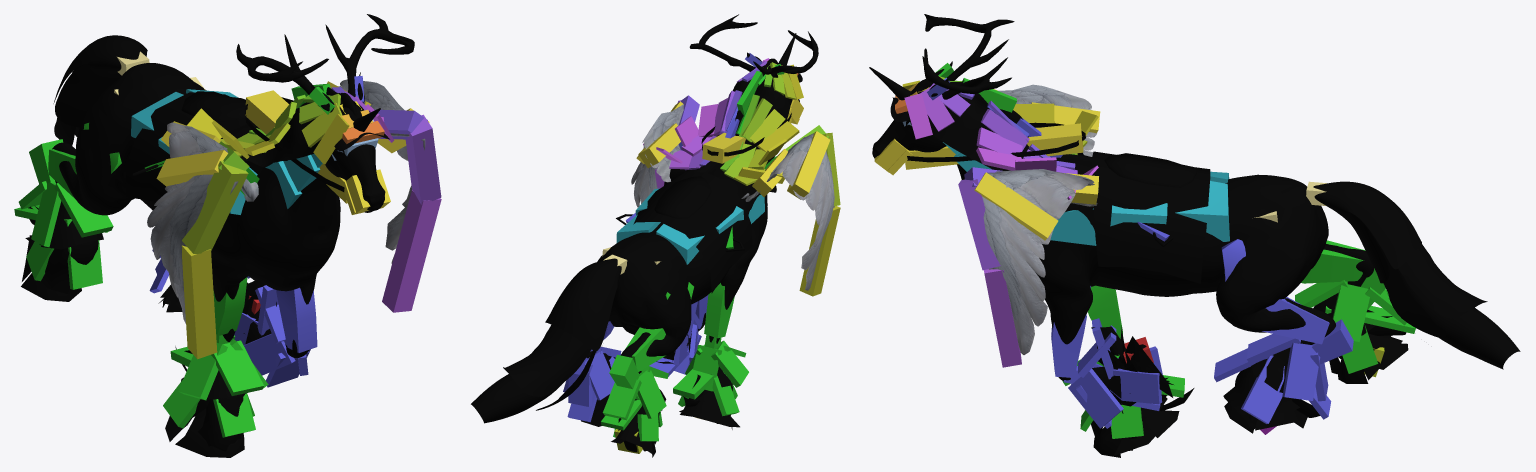
The model's file is glbTest.glb.
3 renders of one model, left to right at view 1: azimuth 30°, elevation 25°; view 2: azimuth 150°, elevation 25°; view 3: azimuth 270°, elevation 25°, orthographic. The views are drawn at different scales.
Parts seen in each view (by area): view 1: Ho_Mo_On_01_Body, Ho_Mo_08_01_AccLeg, Ho_Mo_06_02_AccBody, Ho_Mo_09_01_Saddle, Ho_Mo_05_02_Tail, Bip002 Xtra43_Wing_L04, Ho_Mo_07_03_AccHead, Bip002 Xtra43_Wing_R04, Bip002 Xtra43_Wing_R03, Ho_Mo_04_01_Mane, Bip002 Xtra43_Wing_L03, Bip002 L UpperArm (+27 smaller); view 2: Ho_Mo_On_01_Body, Ho_Mo_05_02_Tail, Ho_Mo_09_01_Saddle, Ho_Mo_06_02_AccBody, Ho_Mo_08_01_AccLeg, Ho_Mo_04_01_Mane, Ho_Mo_07_03_AccHead, Bip002 Spine, Bip002 Xtra43_Wing_R04, Bip002 Xtra43_Wing_R06, Bip002 R UpperArm, Bip002 Xtra21_LegHair_RB (+23 smaller); view 3: Ho_Mo_On_01_Body, Ho_Mo_05_02_Tail, Ho_Mo_09_01_Saddle, Ho_Mo_06_02_AccBody, Ho_Mo_08_01_AccLeg, Ho_Mo_04_01_Mane, Ho_Mo_07_03_AccHead, Bip002 Xtra43_Wing_L06, Bip002 Xtra43_Wing_L04, Bip002 Spine, Bip002 Xtra36_LegHair_LB, Bip002 Xtra28_LegHair_LF (+26 smaller).
Boxes of the visible parts, bbox=[...] form: Ho_Mo_On_01_Body: bbox=[52, 63, 385, 357]; Ho_Mo_08_01_AccLeg: bbox=[21, 182, 290, 457]; Ho_Mo_06_02_AccBody: bbox=[147, 79, 425, 323]; Ho_Mo_09_01_Saddle: bbox=[125, 91, 344, 202]; Ho_Mo_05_02_Tail: bbox=[53, 35, 147, 145]; Bip002 Xtra43_Wing_L04: bbox=[382, 190, 441, 312]; Ho_Mo_07_03_AccHead: bbox=[236, 14, 414, 106]; Bip002 Xtra43_Wing_R04: bbox=[181, 245, 217, 359]; Bip002 Xtra43_Wing_R03: bbox=[182, 160, 248, 253]; Ho_Mo_04_01_Mane: bbox=[222, 98, 389, 167]; Bip002 Xtra43_Wing_L03: bbox=[405, 114, 441, 204]; Bip002 L UpperArm: bbox=[276, 287, 317, 352]; Ho_Mo_On_01_Body: bbox=[586, 52, 799, 451]; Ho_Mo_05_02_Tail: bbox=[471, 259, 621, 423]; Ho_Mo_09_01_Saddle: bbox=[616, 113, 791, 293]; Ho_Mo_06_02_AccBody: bbox=[631, 104, 834, 290]; Ho_Mo_08_01_AccLeg: bbox=[581, 331, 739, 457]; Ho_Mo_04_01_Mane: bbox=[664, 63, 802, 215]; Ho_Mo_07_03_AccHead: bbox=[689, 14, 818, 77]; Bip002 Spine: bbox=[616, 214, 704, 264]; Bip002 Xtra43_Wing_R04: bbox=[799, 206, 840, 296]; Bip002 Xtra43_Wing_R06: bbox=[787, 131, 830, 199]; Bip002 R UpperArm: bbox=[704, 283, 734, 338]; Bip002 Xtra21_LegHair_RB: bbox=[602, 379, 641, 420]; Ho_Mo_On_01_Body: bbox=[872, 61, 1373, 380]; Ho_Mo_05_02_Tail: bbox=[1314, 181, 1520, 369]; Ho_Mo_09_01_Saddle: bbox=[907, 122, 1210, 283]; Ho_Mo_06_02_AccBody: bbox=[982, 84, 1098, 354]; Ho_Mo_08_01_AccLeg: bbox=[1091, 281, 1408, 457]; Ho_Mo_04_01_Mane: bbox=[890, 81, 1094, 230]; Ho_Mo_07_03_AccHead: bbox=[922, 14, 1014, 99]; Bip002 Xtra43_Wing_L06: bbox=[974, 172, 1058, 240]; Bip002 Xtra43_Wing_L04: bbox=[984, 269, 1021, 367]; Bip002 Spine: bbox=[1175, 171, 1229, 241]; Bip002 Xtra36_LegHair_LB: bbox=[1282, 343, 1320, 400]; Bip002 Xtra28_LegHair_LF: bbox=[1068, 368, 1123, 428].
Bounding box in the file's own units: 231 × 394 × 550.
147 materials, 1 textured.
